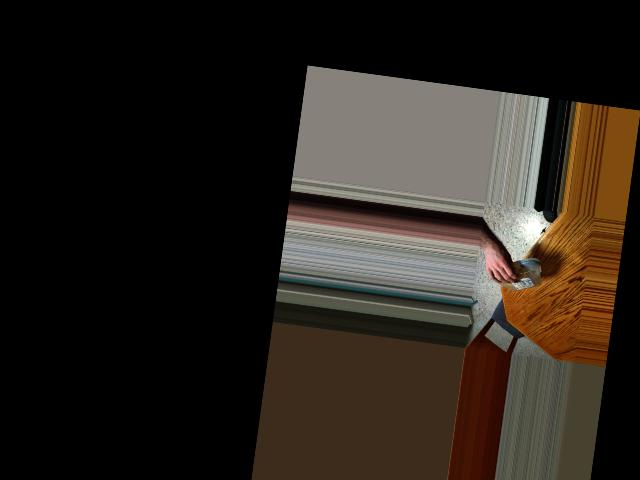cheese: (498, 256, 541, 294)
